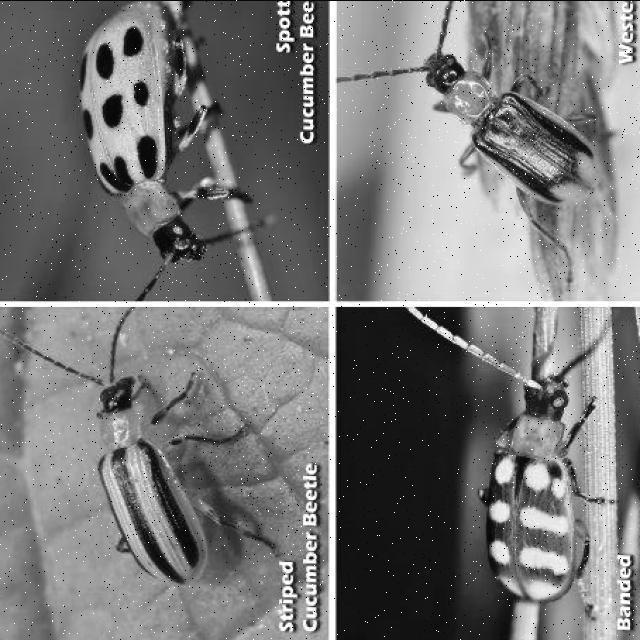gusano_verde: (74, 2, 273, 295), (480, 325, 637, 604)
trips: (0, 307, 290, 597), (334, 0, 614, 289)
